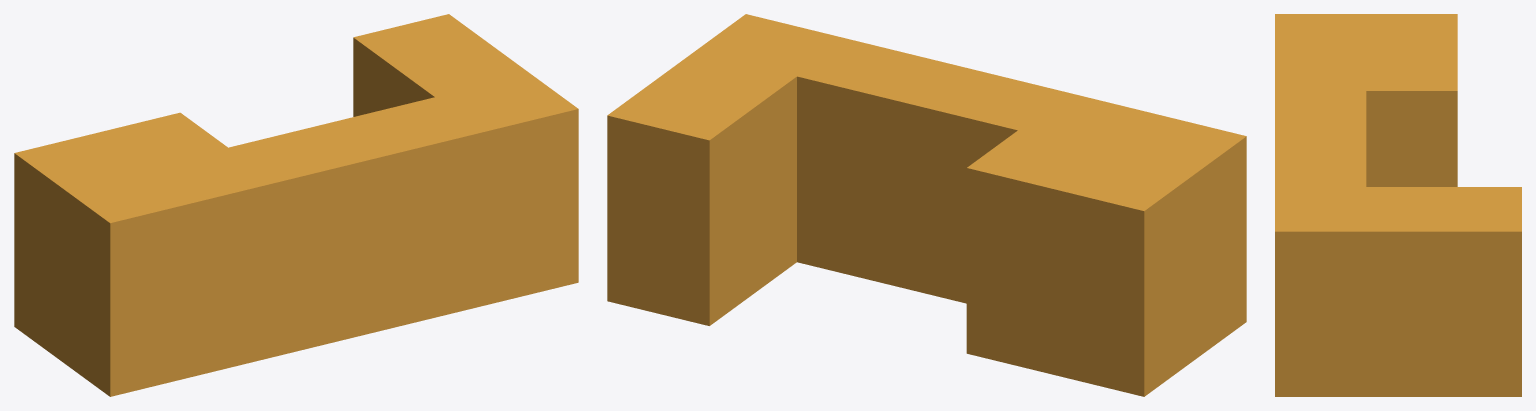
The picture shows the model from 3 angles, left to right: view 1: azimuth 30°, elevation 25°; view 2: azimuth 150°, elevation 25°; view 3: azimuth 270°, elevation 25°; orthographic projection. The views are drawn at different scales.
Parts seen in each view (by area): view 1: Cube; view 2: Cube; view 3: Cube.
Boxes of the visible parts, x1,y1,x2,y2 form: Cube: (14, 14, 578, 396); Cube: (607, 14, 1246, 396); Cube: (1275, 14, 1521, 396).
Size of the model in its own units: 564 by 200 by 271.
